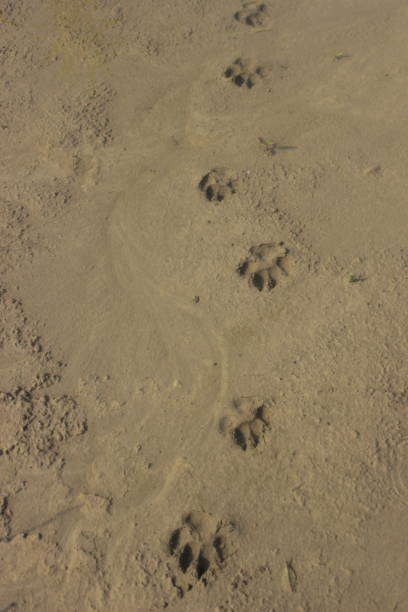animal_foot_print: (168, 511, 231, 597), (220, 397, 271, 450), (237, 242, 288, 290), (199, 168, 236, 203), (224, 58, 266, 87), (234, 2, 269, 26)
